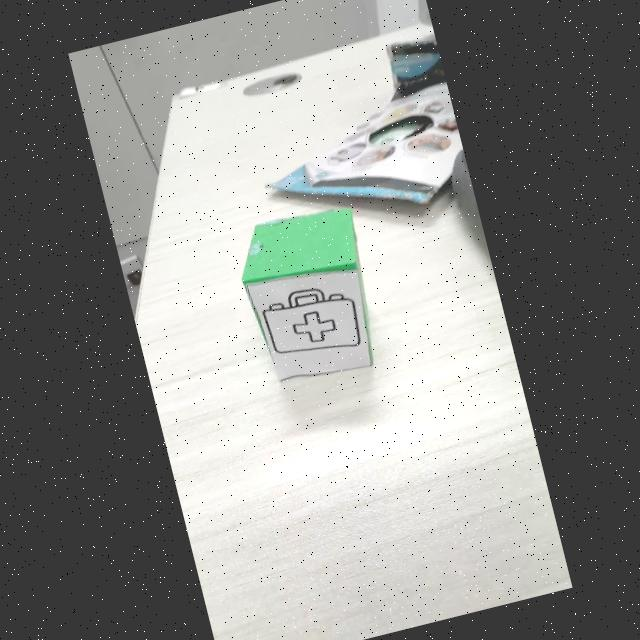Medkit: (262, 289, 361, 354)
